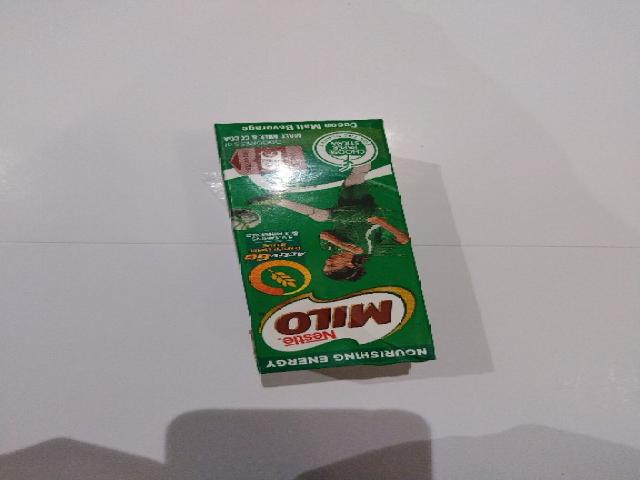drink_box: (211, 116, 441, 375)
